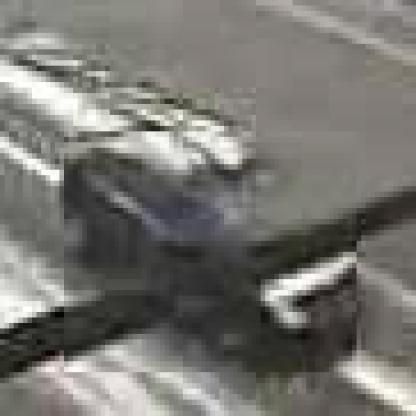car: (65, 132, 362, 379)
